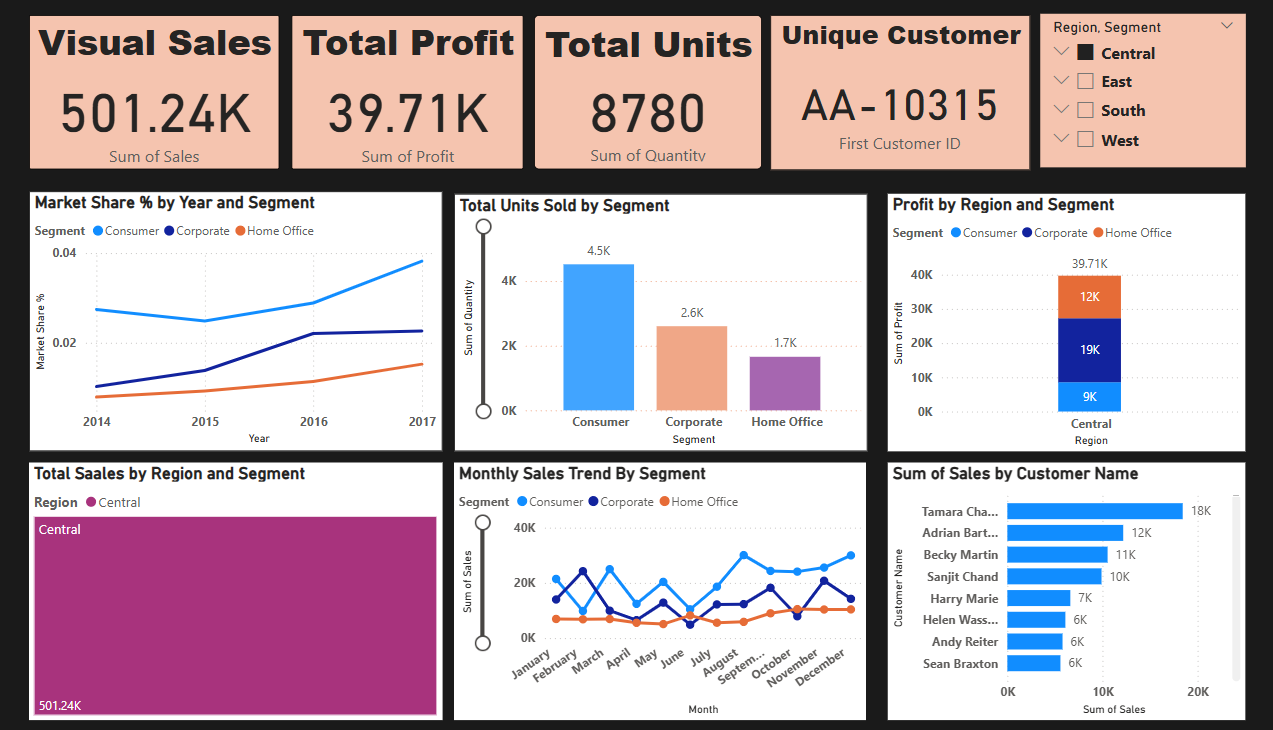

The dashboard page shown, as its layout file describes it:
{"tool":"powerbi","page":{"name":"Page 1","canvas":[1280,741],"ordinal":0},"visuals":[{"type":"card","title":"Visual Sales","fields":{"Values":["Sample - Superstore.Sales"]},"box":[30,15.6,250,154.4],"z":0},{"type":"card","title":"Total Units","fields":{"Values":["Sample - Superstore.Quantity"]},"box":[534.4,14.4,227.8,154.4],"z":1000},{"type":"card","title":"Total Profit","fields":{"Values":["Sample - Superstore.Profit"]},"box":[292.2,15.6,232.2,154.4],"z":2000},{"type":"card","title":"Unique Customer","fields":{"Values":["Sample - Superstore.Customer ID"]},"box":[771.1,14.4,260,155.6],"z":3000},{"type":"lineChart","fields":{"Category":["Sample - Superstore.Order Date.Variation.Date Hierarchy.Year","Sample - Superstore.Order Date.Variation.Date Hierarchy.Quarter","Sample - Superstore.Order Date.Variation.Date Hierarchy.Month","Sample - Superstore.Order Date.Variation.Date Hierarchy.Day"],"Series":["Sample - Superstore.Segment"],"Y":["Sample - Superstore.Market Share %"]},"box":[30,191.1,413.3,260],"z":4000},{"type":"clusteredColumnChart","title":"Total Units Sold by Segment","fields":{"Category":["Sample - Superstore.Segment"],"Y":["Sample - Superstore.Quantity"]},"box":[454.4,193.3,413.3,257.8],"z":5000},{"type":"treemap","title":"Total Saales by Region and Segment","fields":{"Values":["Sample - Superstore.Sales"],"Group":["Sample - Superstore.Segment","Sample - Superstore.Region"]},"box":[30,462.2,413.3,257.8],"z":6000},{"type":"lineChart","title":"Monthly Sales Trend By Segment","fields":{"Series":["Sample - Superstore.Segment"],"Category":["Sample - Superstore.Order Date.Variation.Date Hierarchy.Month"],"Y":["Sample - Superstore.Sales"]},"box":[455.6,462.2,412.2,257.8],"z":7000},{"type":"columnChart","title":" Profit by Region and Segment","fields":{"Series":["Sample - Superstore.Segment"],"Y":["Sample - Superstore.Profit"],"Category":["Sample - Superstore.Region"]},"box":[888.9,193.3,357.8,257.8],"z":8000},{"type":"barChart","fields":{"Category":["Sample - Superstore.Customer Name"],"Y":["Sample - Superstore.Sales"]},"box":[888.9,462.2,357.8,257.8],"z":9000},{"type":"slicer","fields":{"Values":["Sample - Superstore.Region","Sample - Superstore.Segment"]},"box":[1041.2,13.8,205,152.5],"z":10000}]}

Visuals, with their boxes in screenshot pixels (x1, y1, x2, y2), scaled from the page's 1280x741 canvas onto the 1273x730 screenshot:
"Visual Sales" card: left=30, top=15, right=278, bottom=167
"Total Units" card: left=531, top=14, right=758, bottom=166
"Total Profit" card: left=291, top=15, right=522, bottom=167
"Unique Customer" card: left=767, top=14, right=1025, bottom=167
lineChart - Sample - Superstore.Order Date.Variation.Date Hierarchy.Year x Sample - Superstore.Order Date.Variation.Date Hierarchy.Quarter: left=30, top=188, right=441, bottom=444
"Total Units Sold by Segment" clusteredColumnChart: left=452, top=190, right=863, bottom=444
"Total Saales by Region and Segment" treemap: left=30, top=455, right=441, bottom=709
"Monthly Sales Trend By Segment" lineChart: left=453, top=455, right=863, bottom=709
" Profit by Region and Segment" columnChart: left=884, top=190, right=1240, bottom=444
barChart - Sample - Superstore.Customer Name x Sample - Superstore.Sales: left=884, top=455, right=1240, bottom=709
slicer - Sample - Superstore.Region x Sample - Superstore.Segment: left=1036, top=14, right=1239, bottom=164
